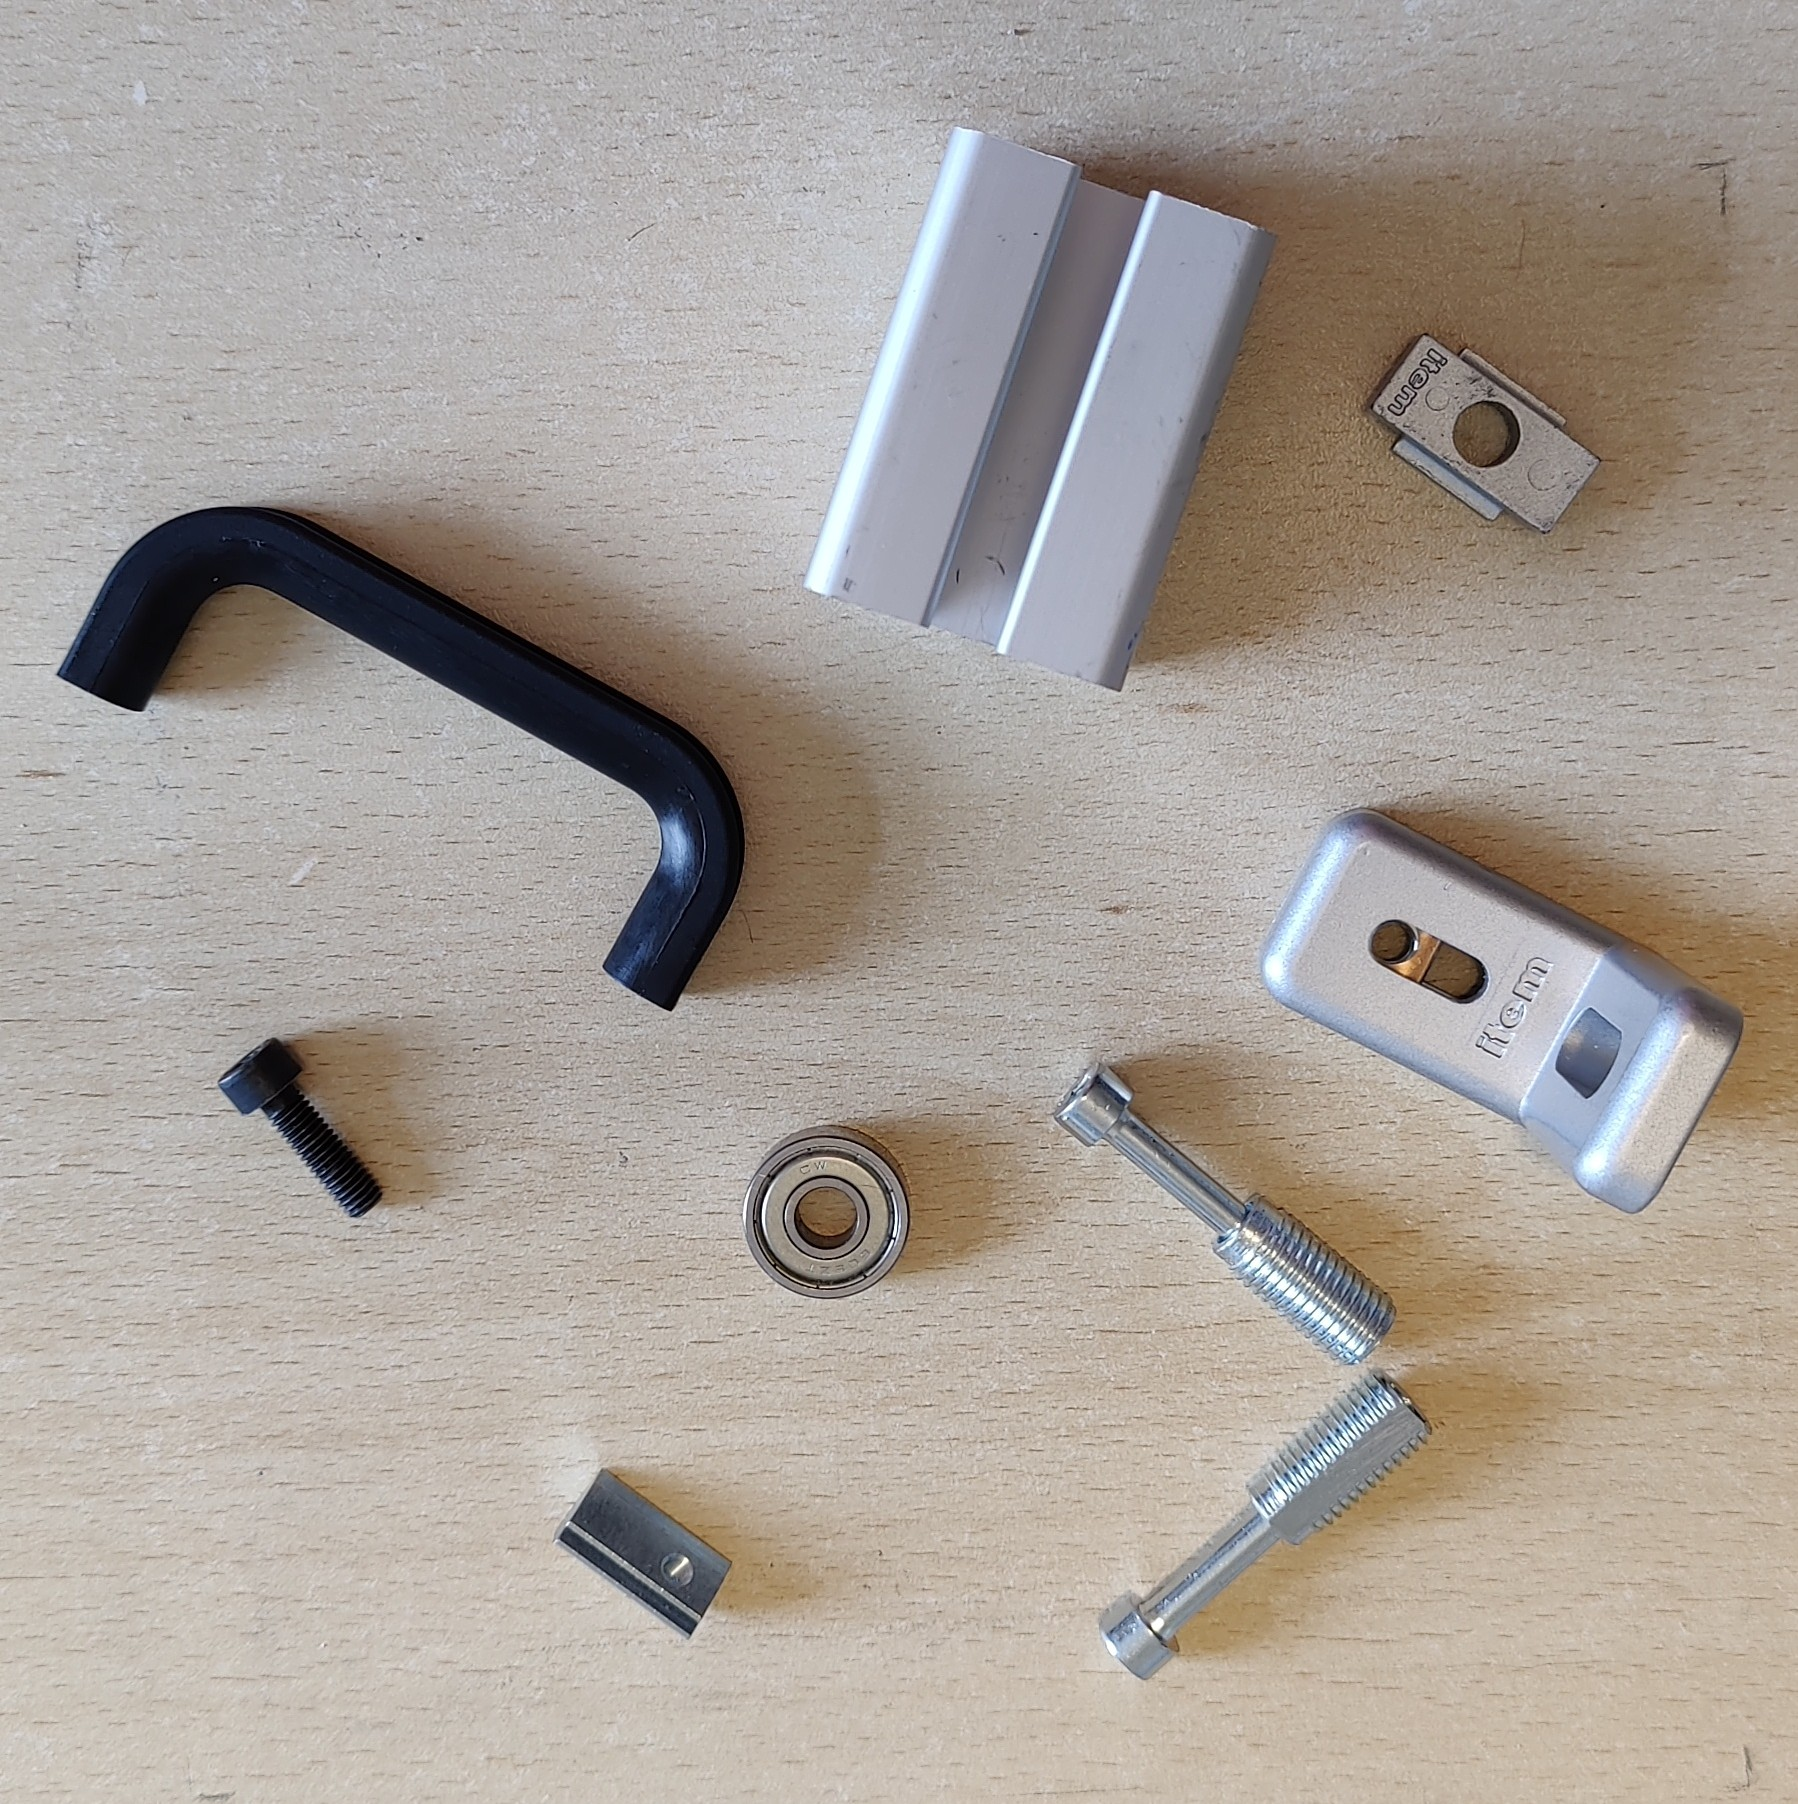Aluminium Extension: (799, 127, 1284, 693)
Ball Bearing: (739, 1123, 917, 1304)
Multiwinkel: (1256, 808, 1745, 1215)
Pull Handle: (56, 504, 748, 1014)
Shoulder Socket Head Cap Screw: (1095, 1366, 1437, 1685), (1052, 1057, 1400, 1369)
Socket Head Cap Screw: (212, 1034, 385, 1221)
T Nut Square: (1362, 326, 1604, 537)
T Spring Nut: (552, 1467, 733, 1643)
